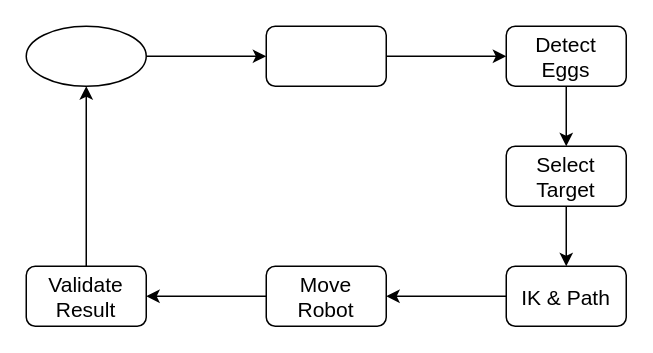
The diagram is 653 pixels wide and 353 high, and some of its shapes have lost their labels. The shapes that lost their labels are listed below. From the top down, each one's box as (x1, y1, x2, y2) in pixels, then its label:
(25, 25, 146, 86): Capture Frame
(265, 25, 386, 86): Detect Tray
